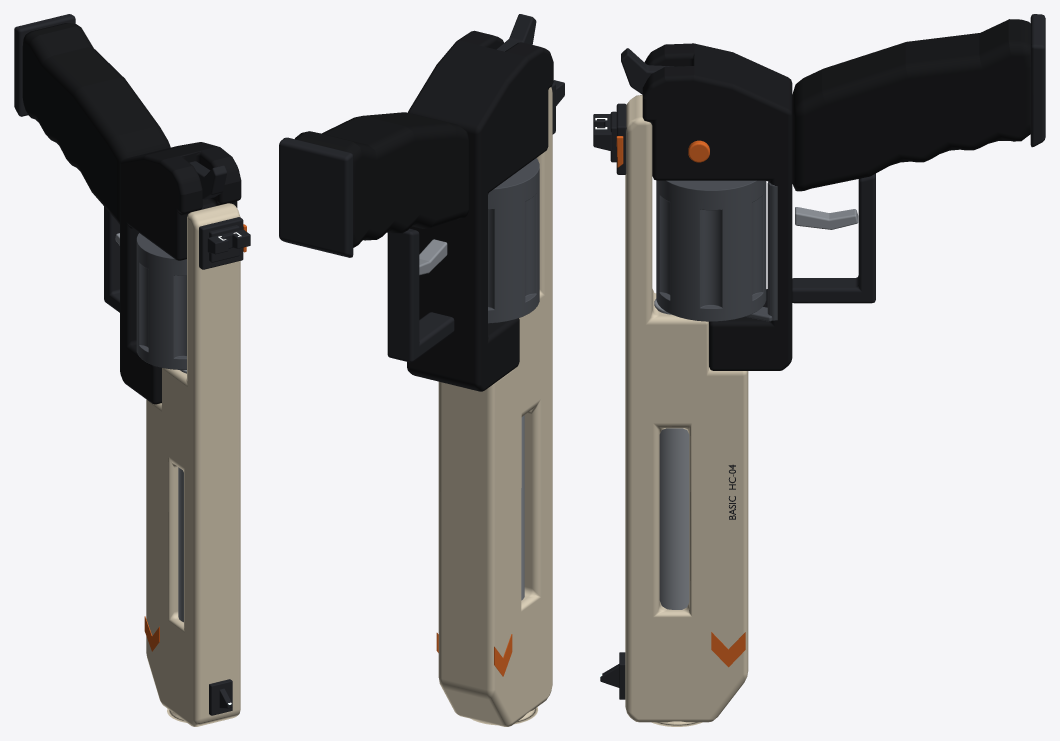
Rendered from BASIC-04-v2.1.fbx.
3 renders of one model, left to right at view 1: azimuth 30°, elevation 25°; view 2: azimuth 150°, elevation 25°; view 3: azimuth 270°, elevation 25°, orthographic. The views are drawn at different scales.
Parts seen in each view (by area): view 1: shroud, grip, frame, cylinder, trigger_guard, sight_mount, grip_cap, barrel, hammer, sight_front, sight_rear; view 2: shroud, frame, grip, grip_cap, cylinder, trigger_guard, hammer, barrel, trigger; view 3: shroud, grip, frame, cylinder, barrel, trigger_guard, grip_cap, crane, trigger, hammer, sight_mount.
Boxes of the visible parts, x1,y1,x2,y2 form: shroud: (146, 203, 240, 726); grip: (22, 23, 170, 224); frame: (120, 142, 241, 404); cylinder: (136, 233, 186, 369); trigger_guard: (104, 206, 119, 312); sight_mount: (199, 217, 243, 269); grip_cap: (14, 14, 75, 116); barrel: (178, 370, 186, 622); hammer: (189, 161, 226, 199); sight_front: (209, 679, 232, 715); sight_rear: (207, 229, 250, 254); shroud: (438, 87, 552, 726); frame: (407, 30, 553, 391); grip: (295, 112, 469, 247); grip_cap: (279, 137, 353, 257); cylinder: (488, 158, 539, 323); trigger_guard: (387, 228, 454, 362); hammer: (496, 14, 536, 51); barrel: (521, 415, 524, 600); trigger: (419, 239, 447, 275); shroud: (625, 95, 748, 726); grip: (792, 19, 1030, 191); frame: (642, 43, 792, 370); cylinder: (656, 180, 766, 321); barrel: (654, 299, 689, 609); trigger_guard: (792, 173, 875, 303); grip_cap: (1030, 14, 1045, 147); crane: (746, 181, 777, 321); trigger: (795, 207, 858, 229); hammer: (621, 48, 673, 94); sight_mount: (610, 103, 626, 174).
Bounding box in the file's own units: 0.0448 × 0.3065 × 0.184.
